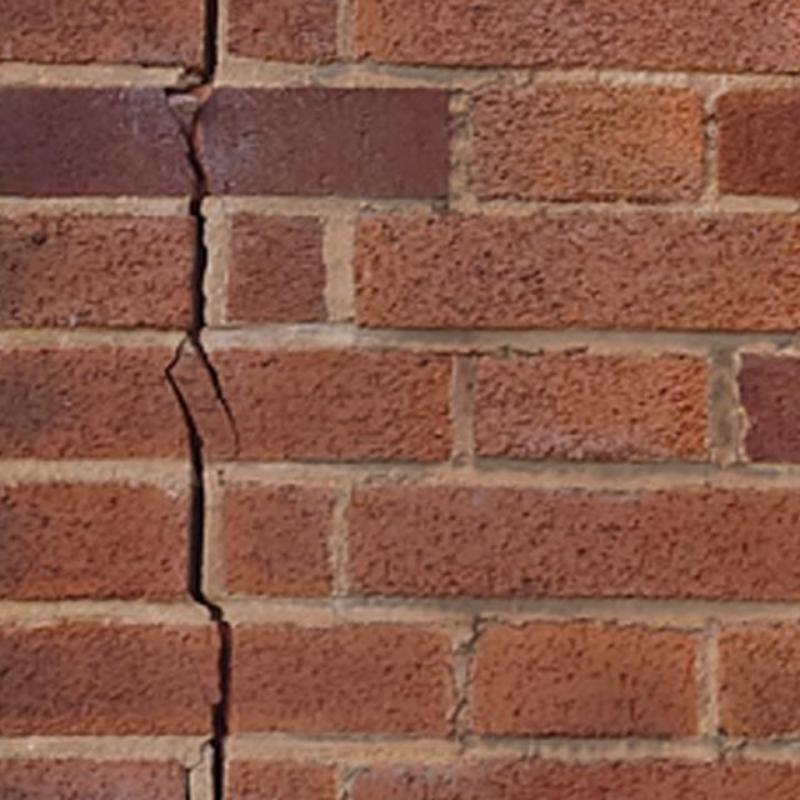crack: (164, 142, 241, 799), (166, 0, 218, 94), (168, 102, 206, 148), (185, 739, 211, 799)
